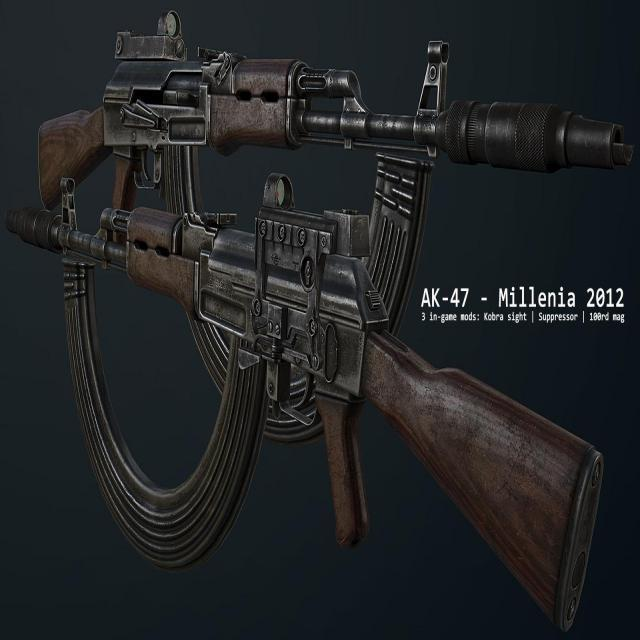ak: (24, 178, 603, 640), (39, 42, 628, 230)
